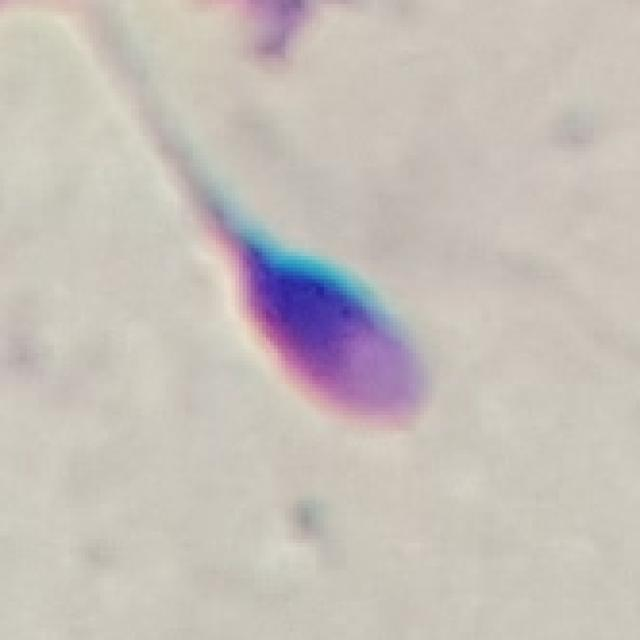normal sperm: (105, 104, 450, 466)
